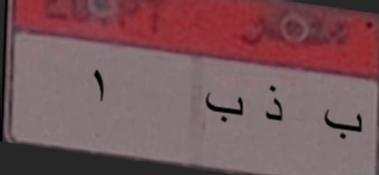1: (82, 58, 113, 106)
baa: (314, 102, 367, 146), (202, 88, 247, 134)
zaal: (256, 78, 286, 128)
